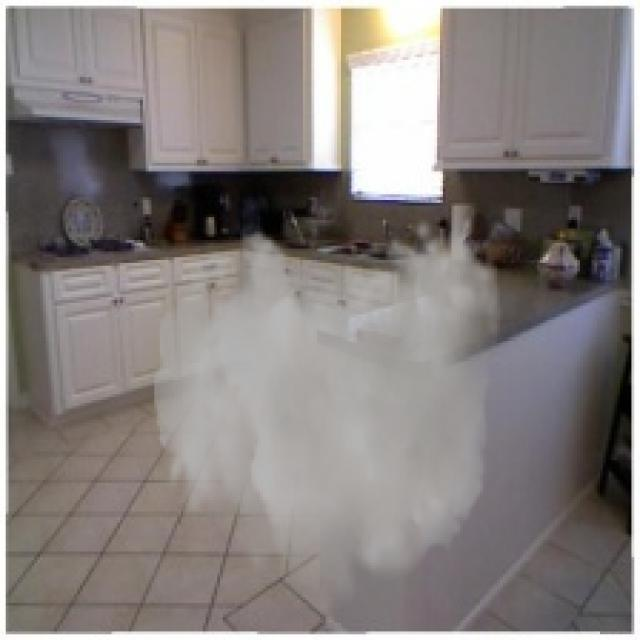Smoke: (154, 217, 503, 632)
